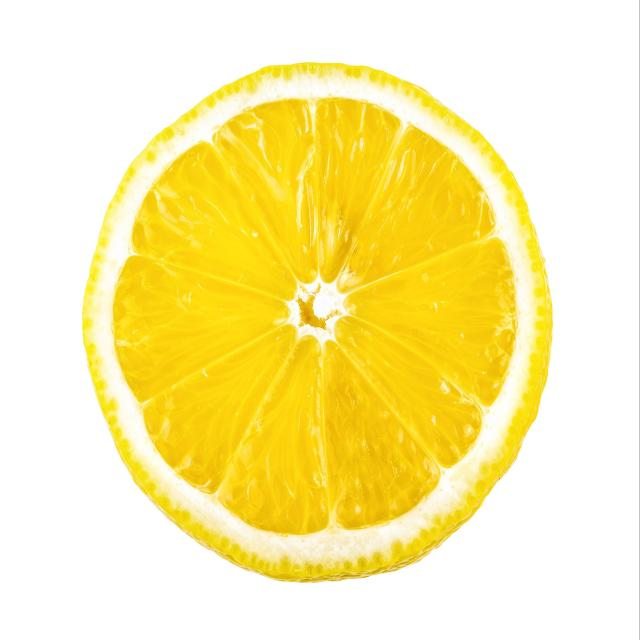lemon: (72, 53, 566, 598)
